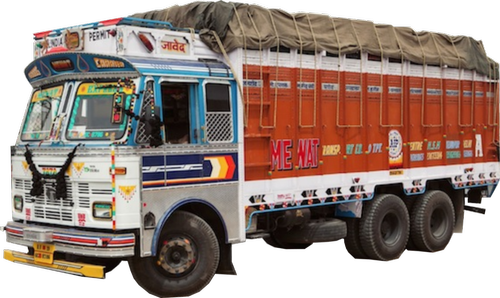truck: (1, 1, 500, 298)
